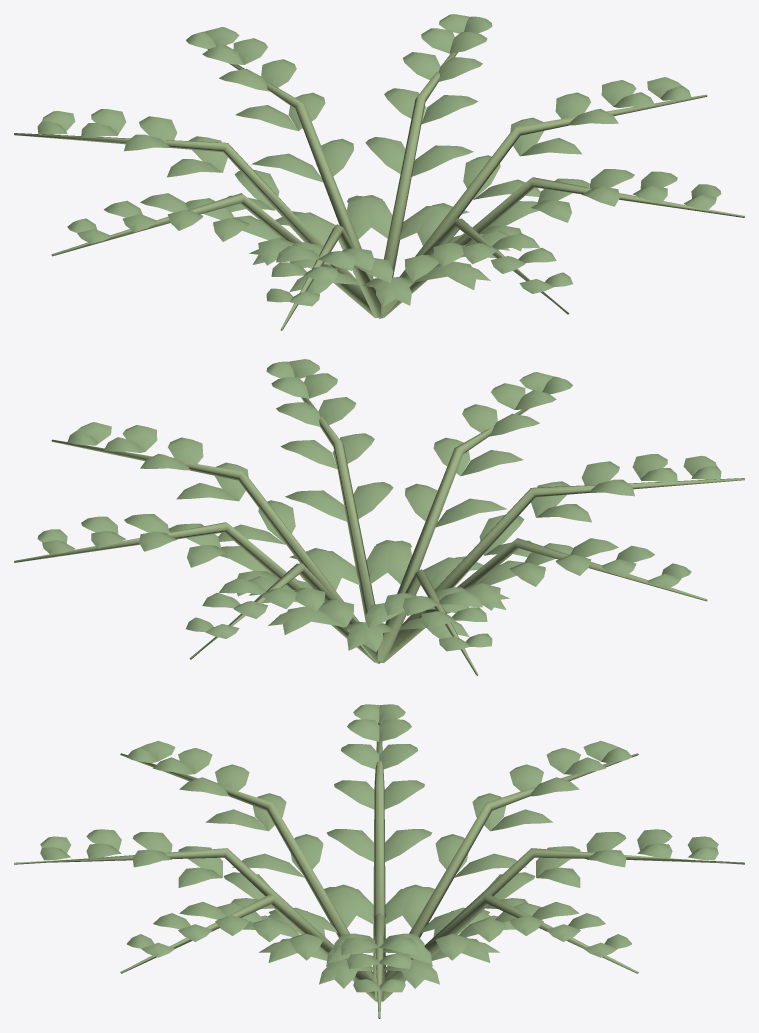
Rendered from SM_Fern.fbx.
The picture shows the model from 3 angles, top to bottom: view 1: azimuth 30°, elevation 25°; view 2: azimuth 150°, elevation 25°; view 3: azimuth 270°, elevation 25°; orthographic projection. The views are drawn at different scales.
Visible parts, largest first — view 1: SM_Fern; view 2: SM_Fern; view 3: SM_Fern.
Boxes of the visible parts, x1,y1,x2,y2 form: SM_Fern: (14, 14, 744, 330); SM_Fern: (14, 359, 744, 675); SM_Fern: (14, 704, 744, 1018).
Size of the model in its own units: 190 by 190 by 47.08.
